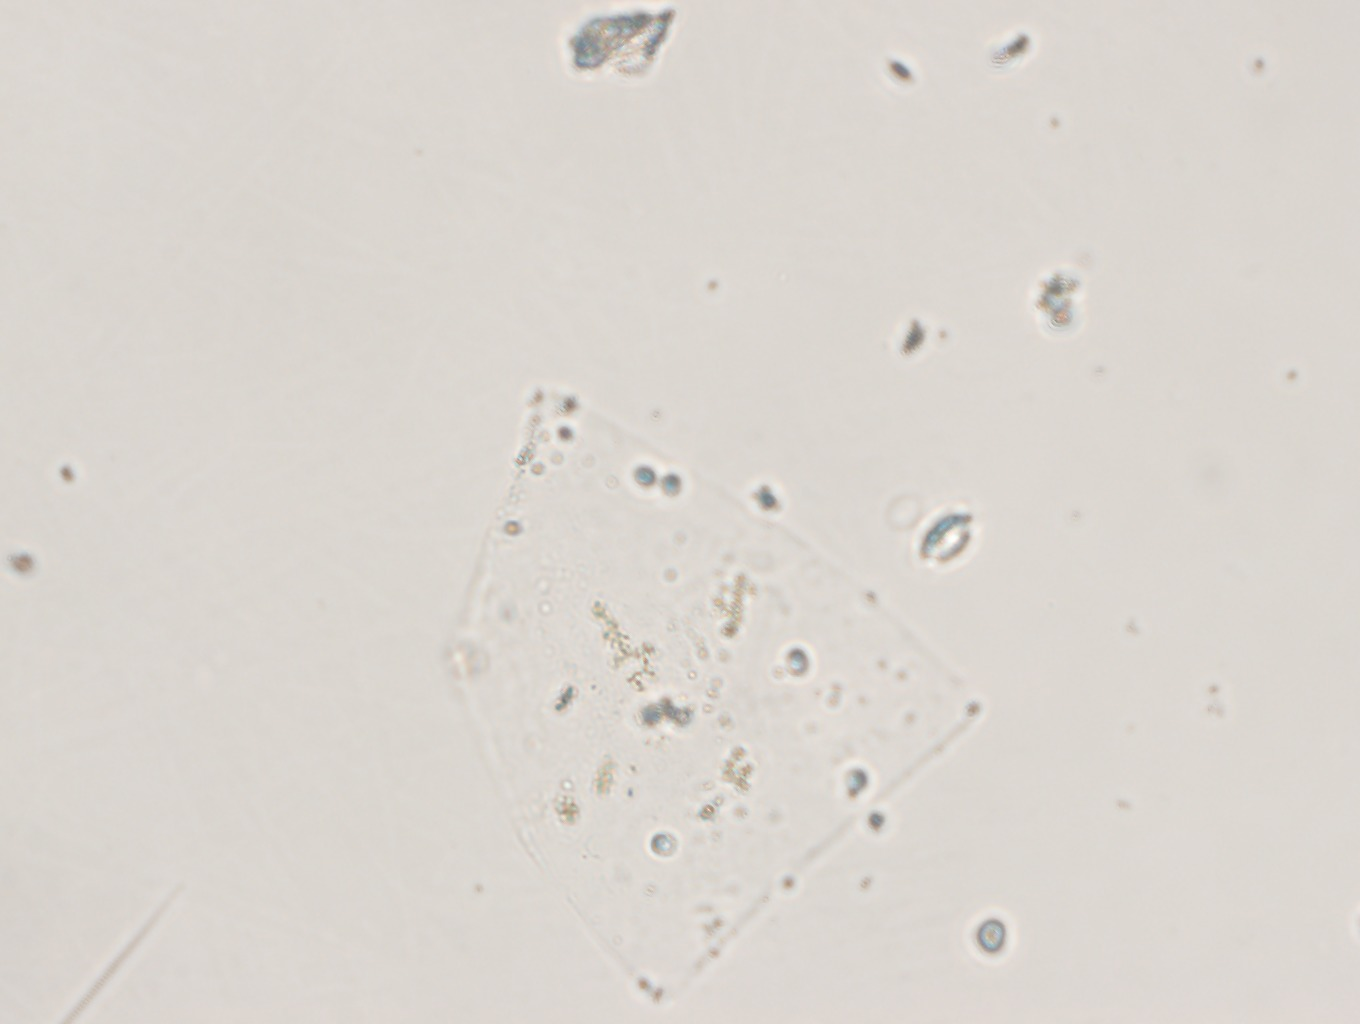helicotheca: (450, 374, 1010, 1010)
